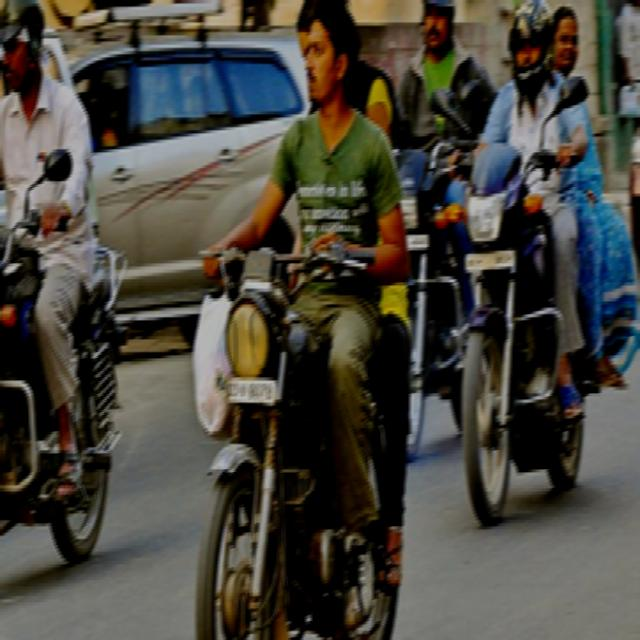With Helmet: (502, 0, 561, 92), (0, 0, 48, 85)
Without Helmet: (306, 0, 360, 114), (548, 3, 578, 76)
